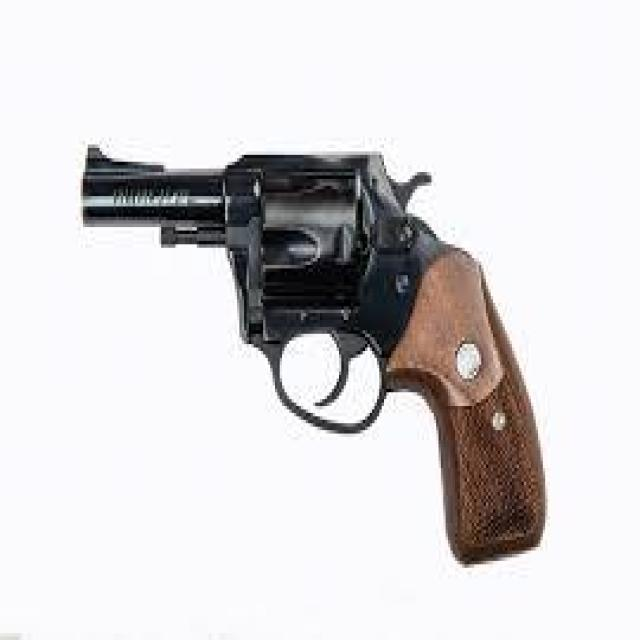Gun: (68, 115, 578, 586)
